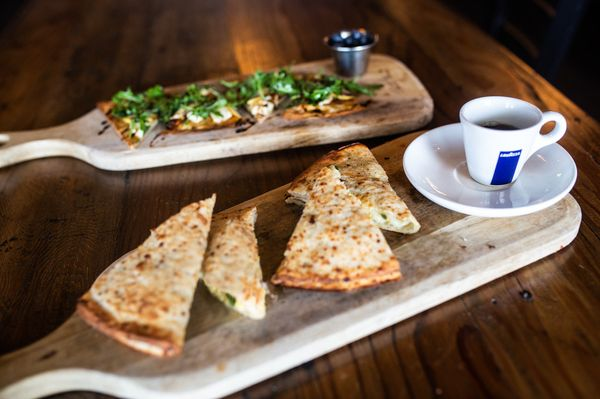pizza: (460, 96, 569, 189), (326, 29, 377, 78)
